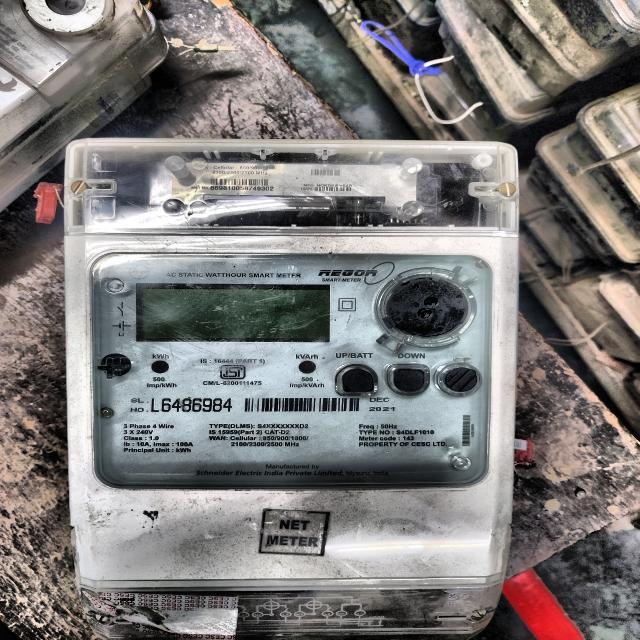Digital: (66, 135, 510, 590)
Reading: (139, 282, 330, 342)
Serial No.: (160, 395, 236, 414)
